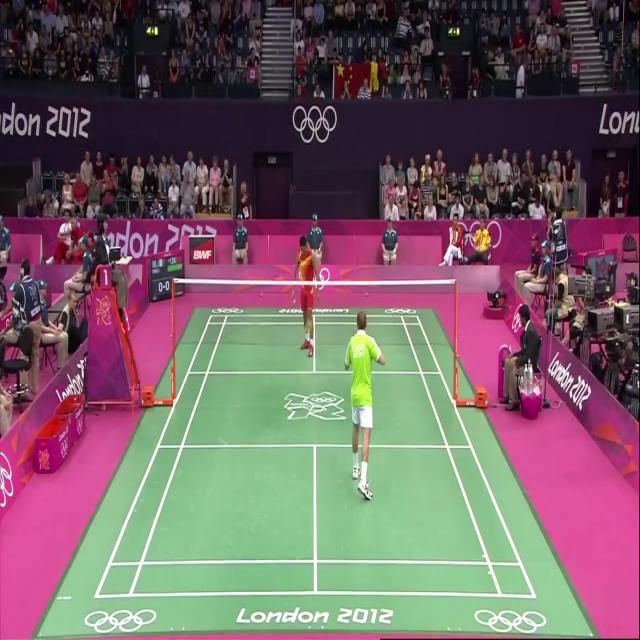Net: (172, 278, 461, 365)
Player1: (346, 288, 386, 510)
Player2: (289, 220, 327, 359)
Shuttlecock: (289, 295, 299, 312)
